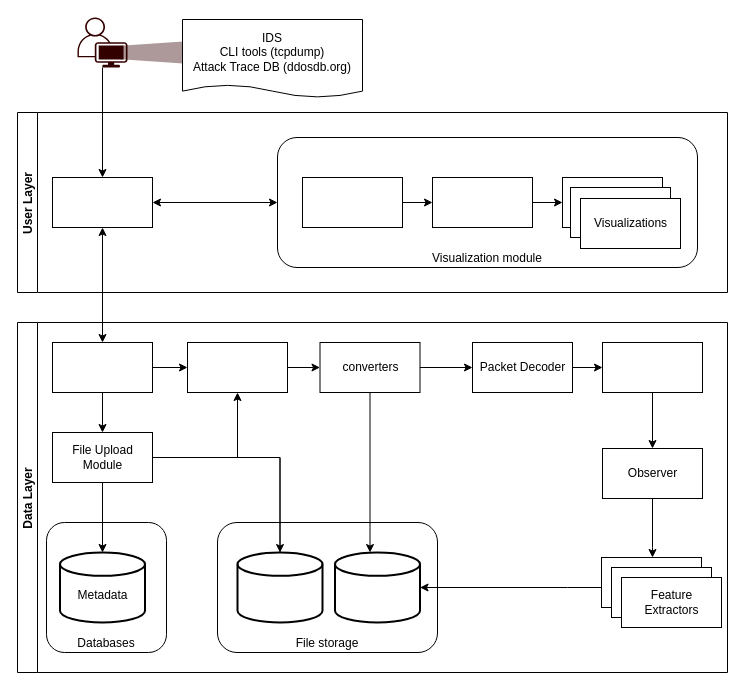
Some shapes in this 745 by 690 pixel diagram are drawn without their labels. Here are the shapes that lost their labels. From the top down, the centre of each, then its label:
the point at 102,202: Web-based Interface
the point at 352,202: View Transformation
the point at 482,202: Visual Transformation
the point at 102,367: RESTful API
the point at 237,367: ddos_dissector
the point at 652,367: Protocol Parser
the point at 279,587: Raw Attack Traces
the point at 377,587: Extracted Features
